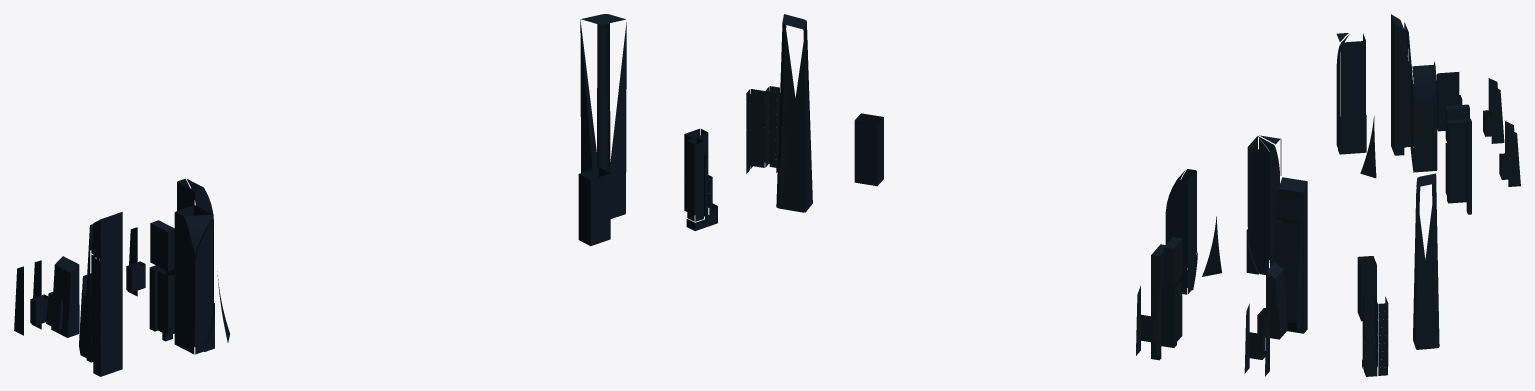
The model's file is Glass Dark Blue Two.FBX.
3 views of the same model, side by side, from view 1: azimuth 30°, elevation 25°; view 2: azimuth 150°, elevation 25°; view 3: azimuth 270°, elevation 25° (orthographic). The views are drawn at different scales.
Visible parts, largest first — view 1: Dark Blue Glass Two, JZ-玻璃-塔楼01 %0%0, _Translu001; view 2: Dark Blue Glass Two, JZ-玻璃-塔楼01 %0%0, _Translu001, _Translu; view 3: Dark Blue Glass Two, JZ-玻璃-塔楼01 %0%0, _Translu001, glass002, _Translu.
Part boxes in pixels (<box>): Dark Blue Glass Two: <box>14,14,626,354</box>; JZ-玻璃-塔楼01 %0%0: <box>79,212,122,376</box>; _Translu001: <box>684,128,712,221</box>; Dark Blue Glass Two: <box>776,14,1287,376</box>; JZ-玻璃-塔楼01 %0%0: <box>1275,177,1307,333</box>; _Translu001: <box>746,86,779,167</box>; _Translu: <box>1272,194,1302,267</box>; Dark Blue Glass Two: <box>1336,33,1520,349</box>; JZ-玻璃-塔楼01 %0%0: <box>1391,14,1413,155</box>; _Translu001: <box>1362,294,1388,367</box>; glass002: <box>1362,359,1387,376</box>; _Translu: <box>1404,22,1410,55</box>.
Size of the model in its own units: 1240 by 455 by 381.
